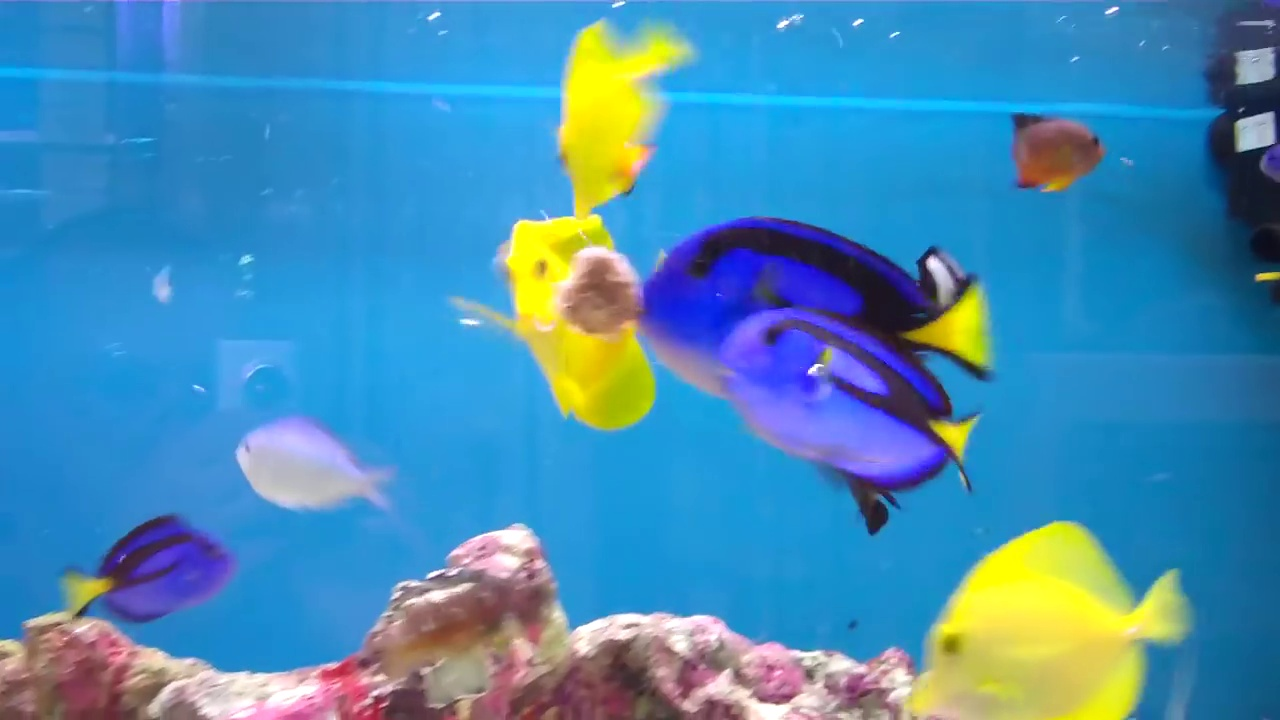blue tang surgeonfish: (638, 217, 990, 406), (716, 293, 978, 536), (54, 510, 239, 630)
damselfish: (220, 399, 399, 526)
saddle butterfly fish: (876, 519, 1188, 720), (491, 205, 671, 439), (541, 0, 673, 217)
